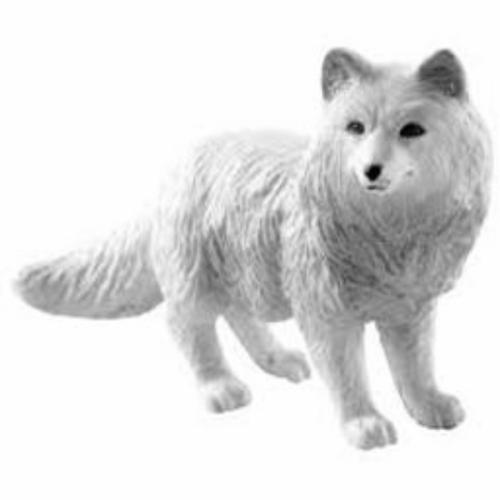arctic_fox-endangered: (51, 55, 488, 436)
